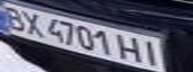0: (75, 22, 93, 52)
1: (90, 28, 115, 56)
4: (42, 16, 66, 43)
7: (57, 19, 78, 46)
B: (0, 3, 30, 32)
H: (115, 33, 145, 63)
I: (139, 38, 166, 68)
X: (18, 9, 48, 37)
